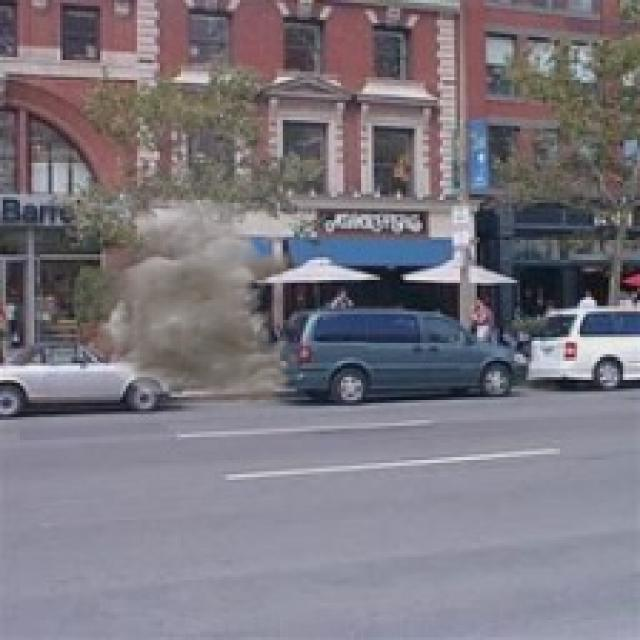smoke: (69, 197, 300, 406)
